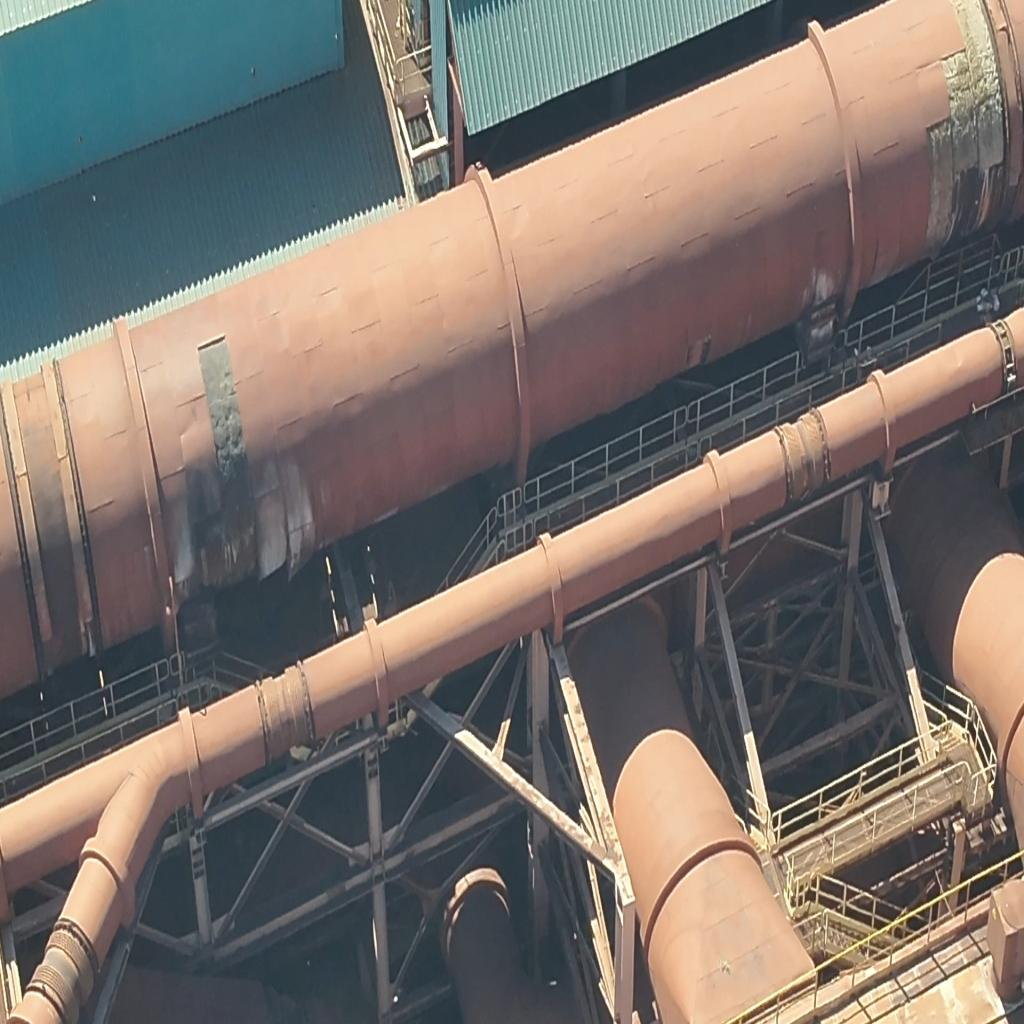Failures: (199, 332, 257, 576), (952, 0, 1006, 171), (942, 49, 978, 234), (928, 119, 952, 259)
